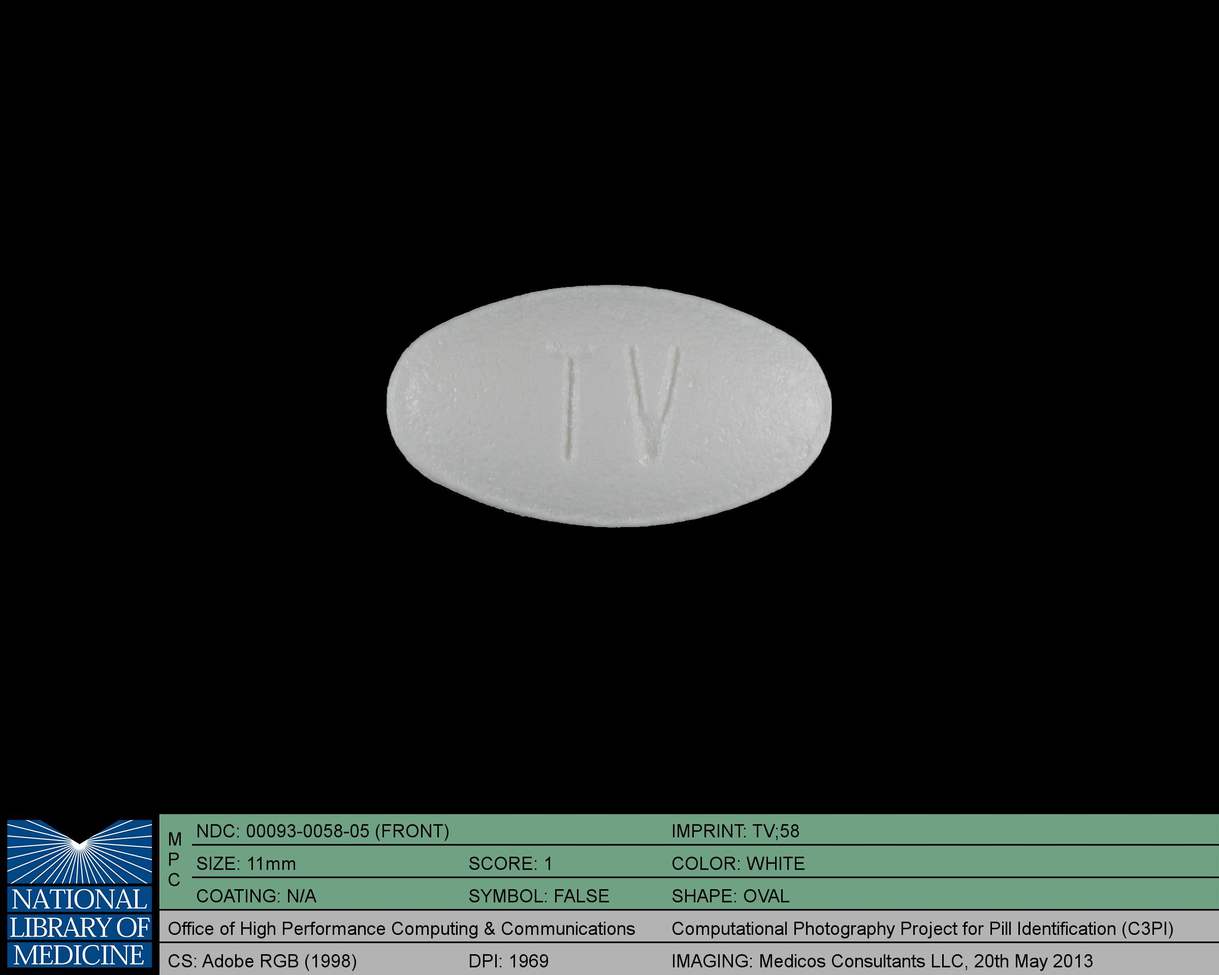Pill: (372, 273, 845, 540)
